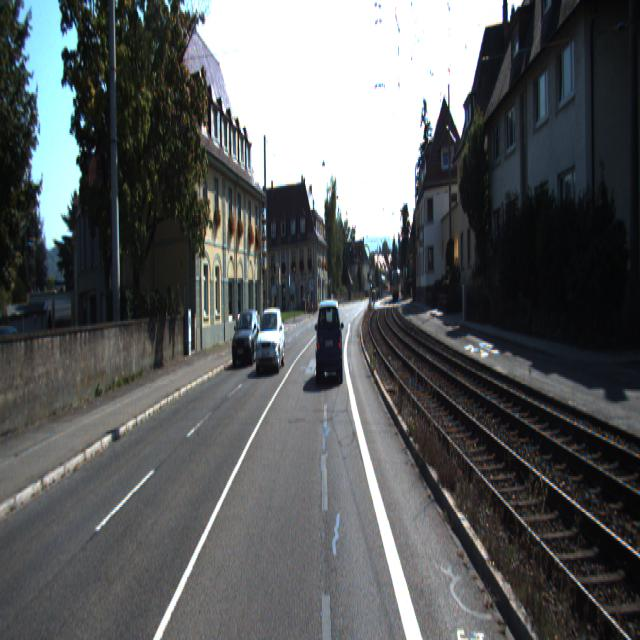Car: (315, 298, 343, 386), (256, 307, 286, 374), (231, 309, 260, 367)
